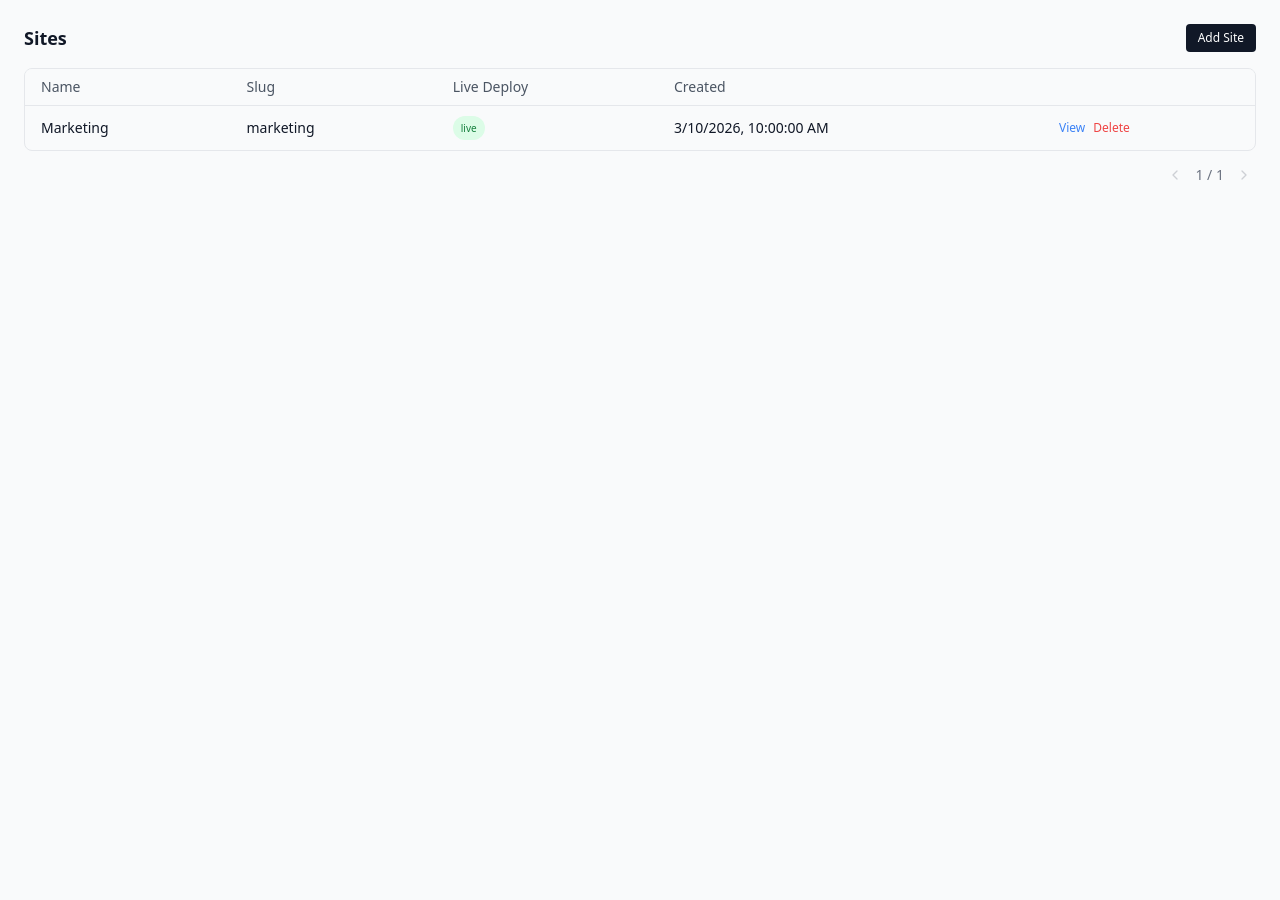
Scenario: Sites › keeps the sites list visible when delete fails
expect the text "Marketing" is shown: met, box x1=25 y1=106 x2=230 y2=150
Click the button with aria-label "Delete Marketing": click(1112, 128) x1=1093 y1=120 x2=1130 y2=136
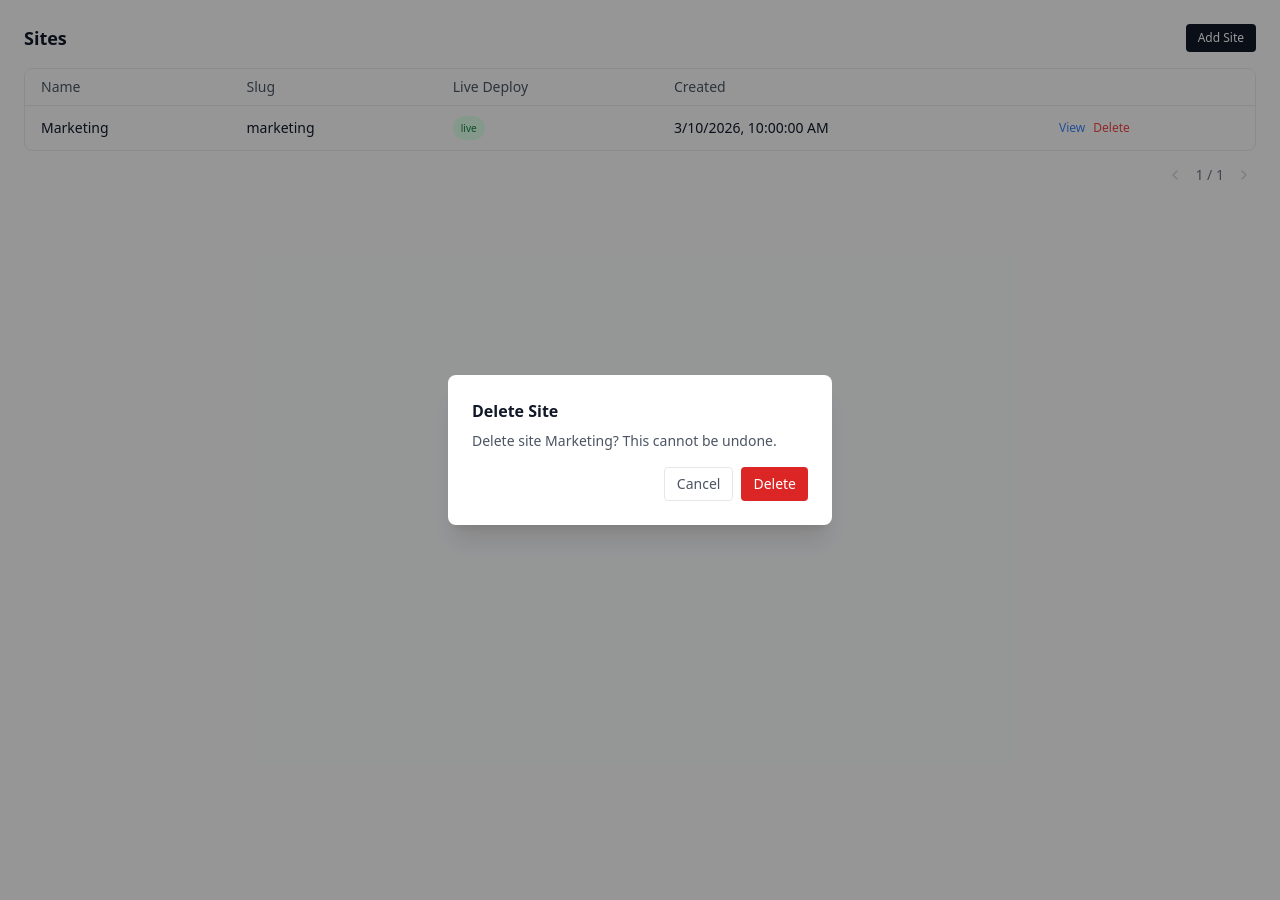
Click the button "Delete": click(775, 484) x1=741 y1=467 x2=808 y2=501
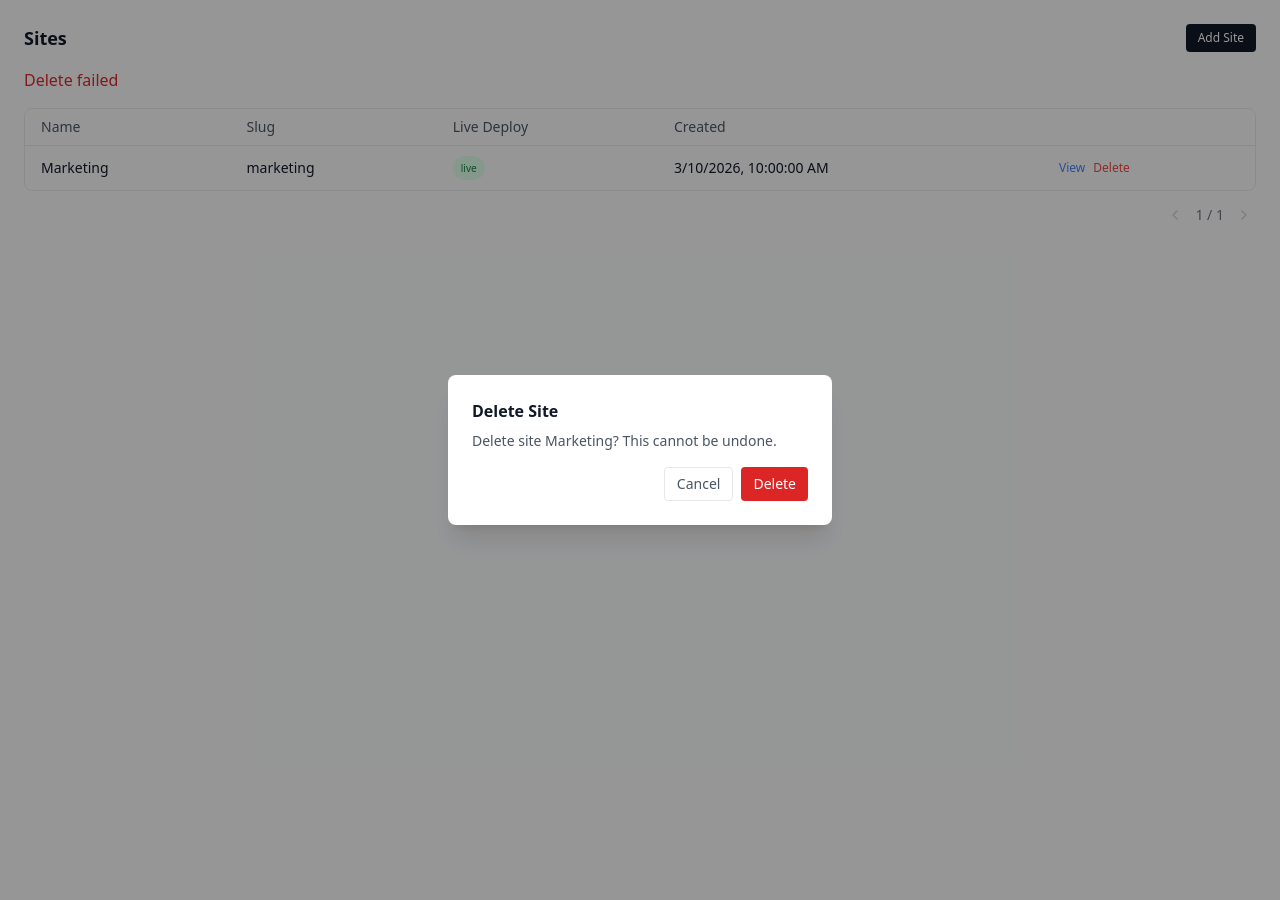
expect the heading "Sites" is shown: met, box x1=24 y1=24 x2=67 y2=52
expect the heading "Delete Site" is shown: met, box x1=472 y1=400 x2=558 y2=422
expect the text "Delete failed" is shown: met, box x1=24 y1=69 x2=118 y2=91
